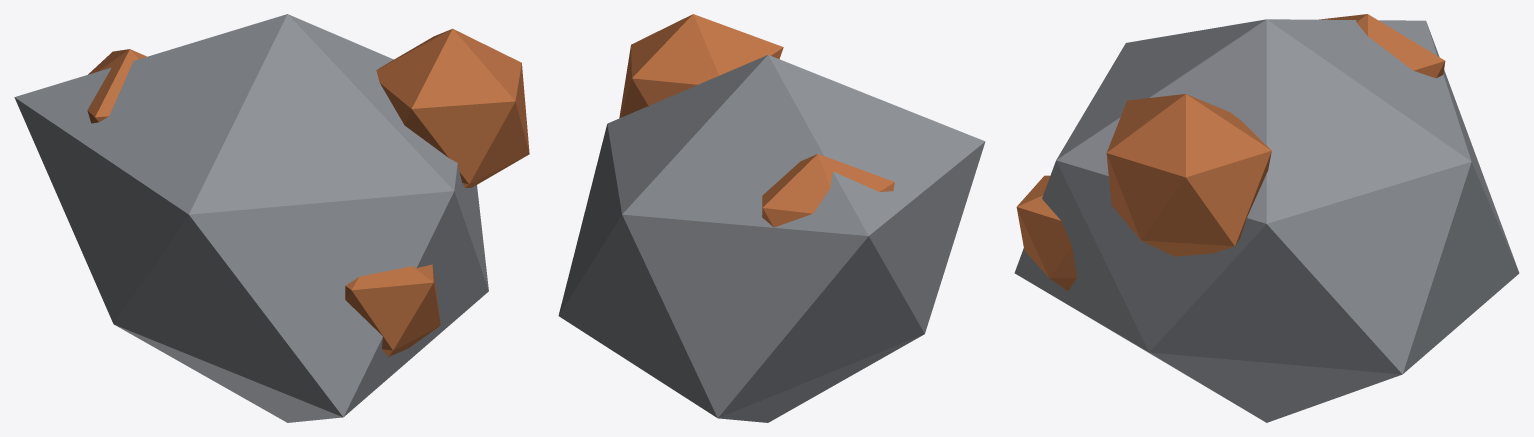
File: ore_cu.fbx
3 renders of one model, left to right at view 1: azimuth 30°, elevation 25°; view 2: azimuth 150°, elevation 25°; view 3: azimuth 270°, elevation 25°, orthographic. The views are drawn at different scales.
Visible parts, largest first — view 1: ore_cu; view 2: ore_cu; view 3: ore_cu.
Boxes of the visible parts, <box> form: ore_cu: <box>14,14,529,422</box>; ore_cu: <box>558,14,985,422</box>; ore_cu: <box>1014,14,1519,422</box>.
Size of the model in its own units: 0.6524 by 0.6609 by 0.7494.
